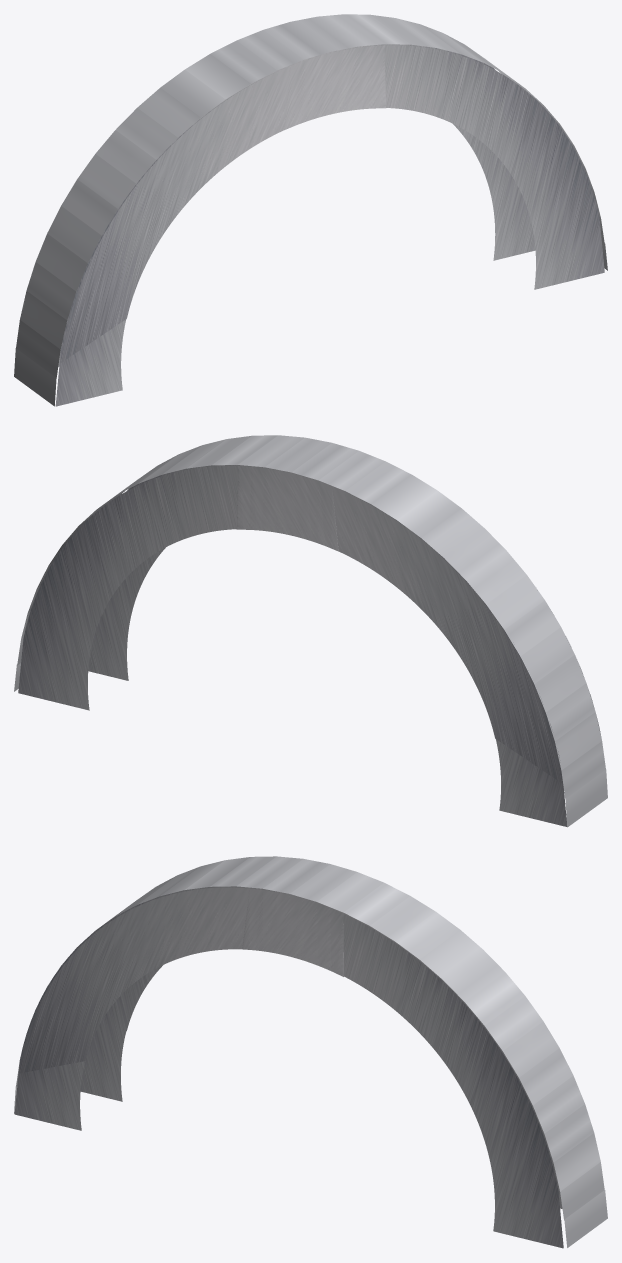
Rendered from water_tube3.glb.
3 views of the same model, one above another, from view 1: azimuth 30°, elevation 25°; view 2: azimuth 150°, elevation 25°; view 3: azimuth 330°, elevation 25° (orthographic).
Parts seen in each view (by area): view 1: Circular saw blade_Material.001_0.018; view 2: Circular saw blade_Material.001_0.018; view 3: Circular saw blade_Material.001_0.018.
Part boxes in pixels (x1,y1,x2,y2): Circular saw blade_Material.001_0.018: [14, 14, 607, 406]; Circular saw blade_Material.001_0.018: [14, 435, 607, 827]; Circular saw blade_Material.001_0.018: [14, 856, 607, 1248].
Bounding box in the file's own units: 16.67 × 8.29 × 2.18.
Materials: 2 (2 with a texture image).
